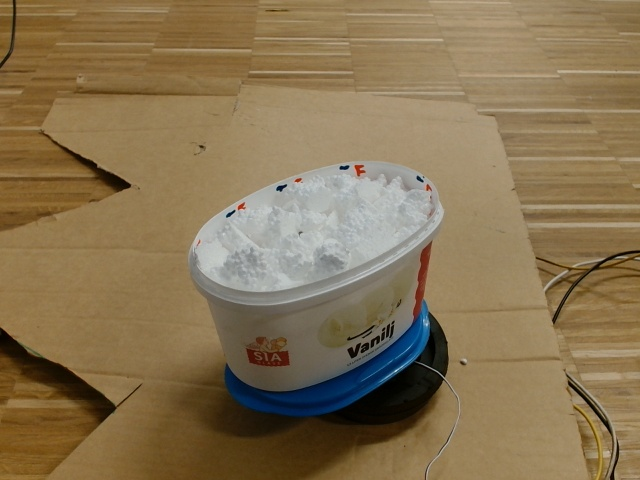Big_full: (190, 157, 444, 306)
